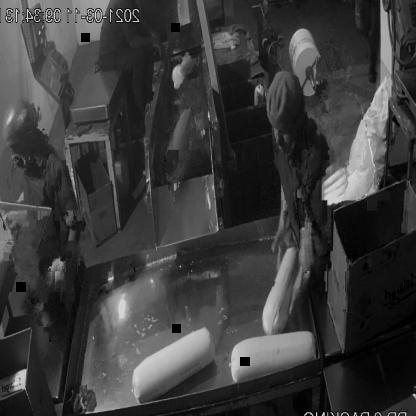no_glove: (128, 35, 165, 62)
